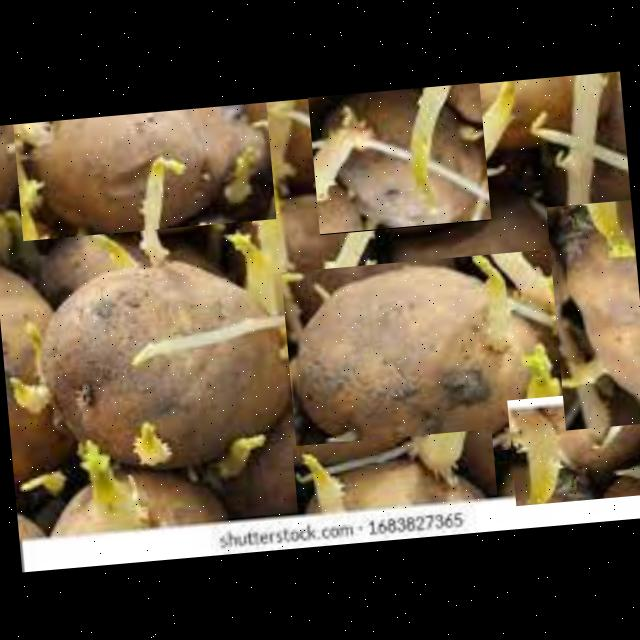Sprouted potato: (279, 246, 582, 467), (29, 240, 304, 473), (11, 100, 275, 240), (306, 82, 489, 234), (545, 198, 640, 429), (42, 447, 238, 552), (290, 428, 497, 518), (505, 386, 640, 504)
